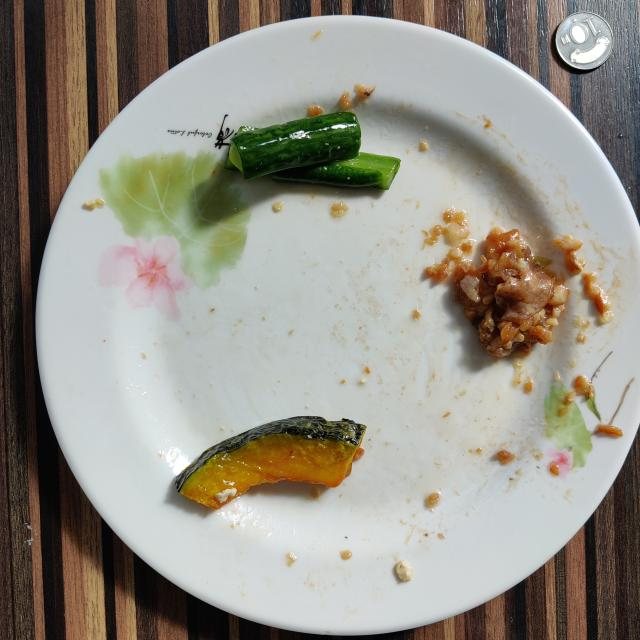Kabayaki sea bream fillet: (452, 228, 570, 358)
coin: (555, 11, 614, 70)
cucumber: (225, 111, 400, 190)
pumpkin: (175, 416, 366, 509)
